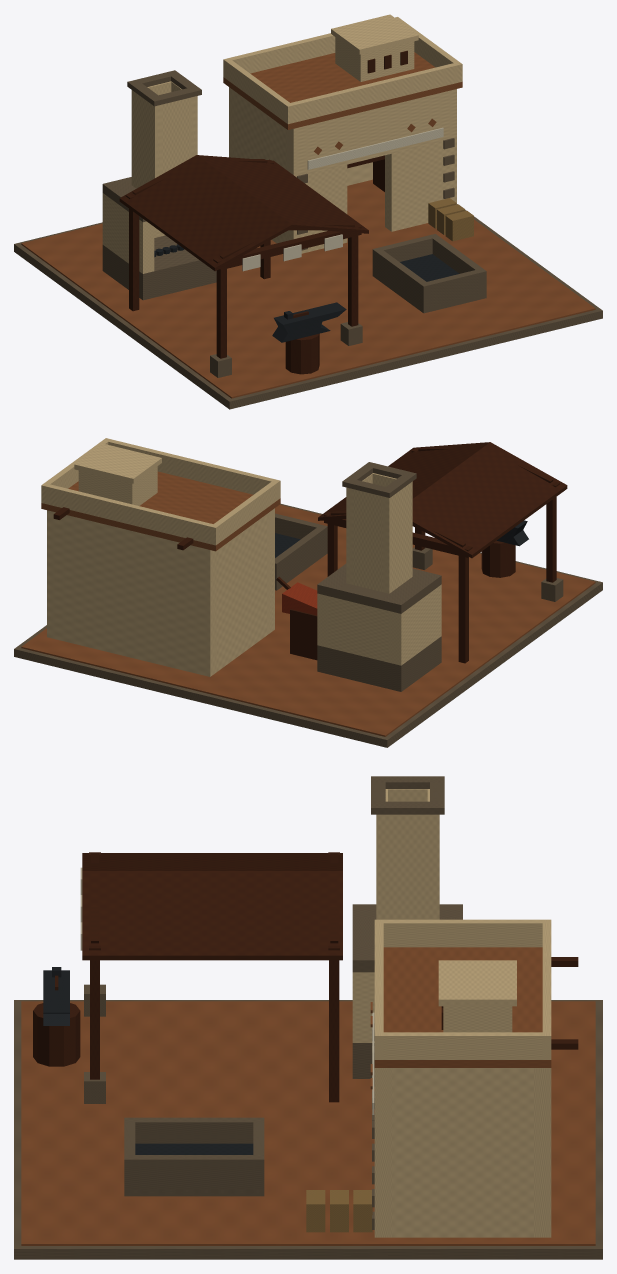
The model's file is Berber_Blacksmith_Age4.fbx.
3 renders of one model, top to bottom at view 1: azimuth 30°, elevation 25°; view 2: azimuth 150°, elevation 25°; view 3: azimuth 270°, elevation 25°, orthographic. The views are drawn at different scales.
Parts seen in each view (by area): view 1: court_floor, pitched_roof, foundation, store_open_lintel, store_roof, pitched_roof.001, store_front_jamb.001, store_parapet, hearth_base, store_side, chimney_side, forge_side (+24 smaller); view 2: court_floor, store_back, pitched_roof, foundation, store_side, store_roof, store_parapet.001, hearth_base, forge_back, chimney_side, forge_side, store_parapet (+24 smaller); view 3: court_floor, store_side.001, pitched_roof.001, foundation, store_roof, chimney_side.001, trough_side.001, store_end_parapet, pitched_roof, store_end_parapet.001, monitor_cap, trough_side (+22 smaller).
Boxes of the visible parts, x1,y1,x2,y2 form: court_floor: [21, 179, 595, 398]; pitched_roof: [119, 155, 291, 271]; foundation: [14, 204, 602, 409]; store_open_lintel: [287, 89, 456, 176]; store_roof: [223, 52, 462, 129]; pitched_roof.001: [197, 155, 368, 233]; store_front_jamb.001: [385, 138, 456, 231]; store_parapet: [284, 62, 462, 124]; hearth_base: [102, 235, 216, 300]; store_side: [235, 92, 286, 243]; chimney_side: [131, 90, 162, 188]; forge_side: [102, 193, 154, 273]; court_floor: [21, 504, 595, 736]; store_back: [47, 510, 216, 676]; pitched_roof: [412, 442, 567, 558]; foundation: [14, 504, 602, 747]; store_side: [216, 513, 268, 671]; store_roof: [41, 471, 280, 551]; store_parapet.001: [41, 483, 218, 545]; hearth_base: [317, 636, 441, 691]; forge_back: [328, 596, 389, 662]; chimney_side: [382, 481, 412, 593]; forge_side: [390, 584, 441, 665]; store_parapet: [103, 438, 280, 500]; court_floor: [21, 1001, 595, 1245]; store_side.001: [392, 1068, 533, 1237]; pitched_roof.001: [82, 871, 342, 960]; foundation: [14, 1000, 602, 1259]; store_roof: [374, 947, 551, 1067]; chimney_side.001: [376, 814, 439, 919]; trough_side.001: [124, 1155, 264, 1188]; store_end_parapet: [383, 919, 542, 947]; pitched_roof: [82, 853, 342, 870]; store_end_parapet.001: [383, 1032, 542, 1059]; monitor_cap: [438, 960, 516, 1006]; trough_side: [124, 1117, 264, 1143].
Size of the model in its own units: 800 by 407 by 800.
Materials: 8 (8 with a texture image).
